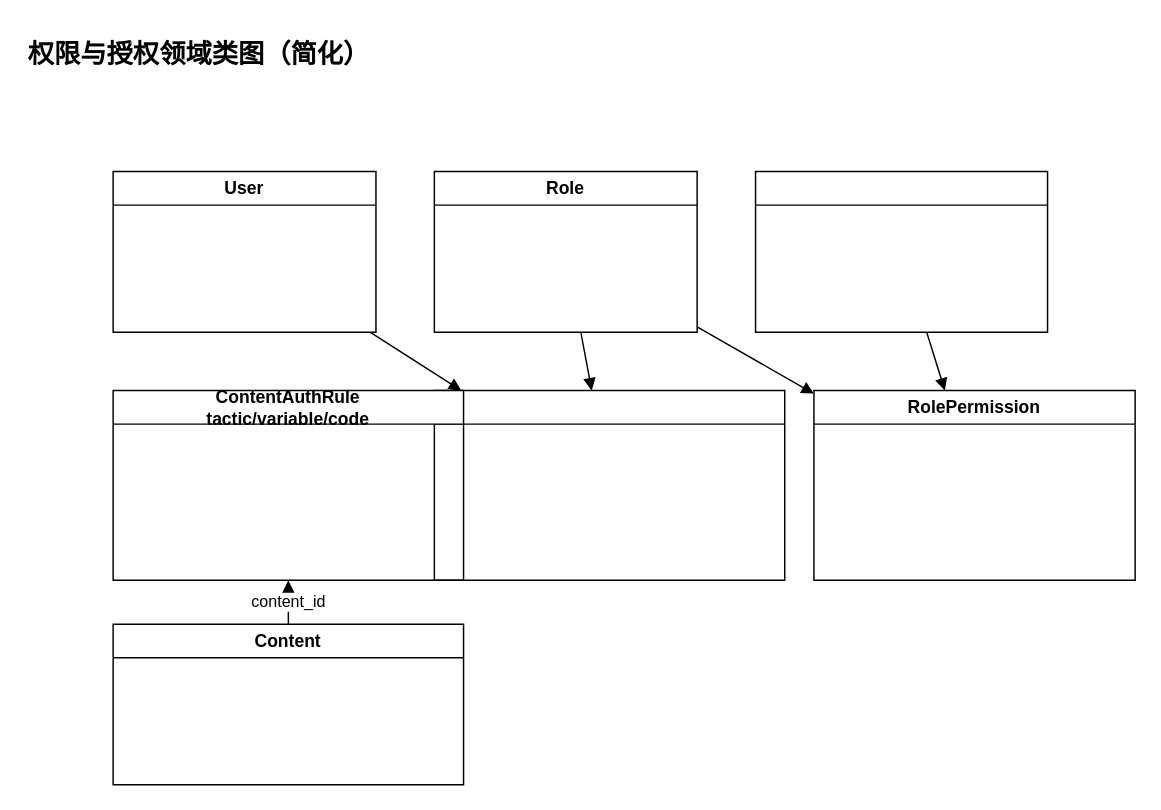
Some shapes in this 1161 by 810 pixel diagram are drawn without their labels. Each missing label, with the centre of its shape:
"Permission" goes at (901,251).
"UserRoleBinding scope_type/scope_id" goes at (609,484).
